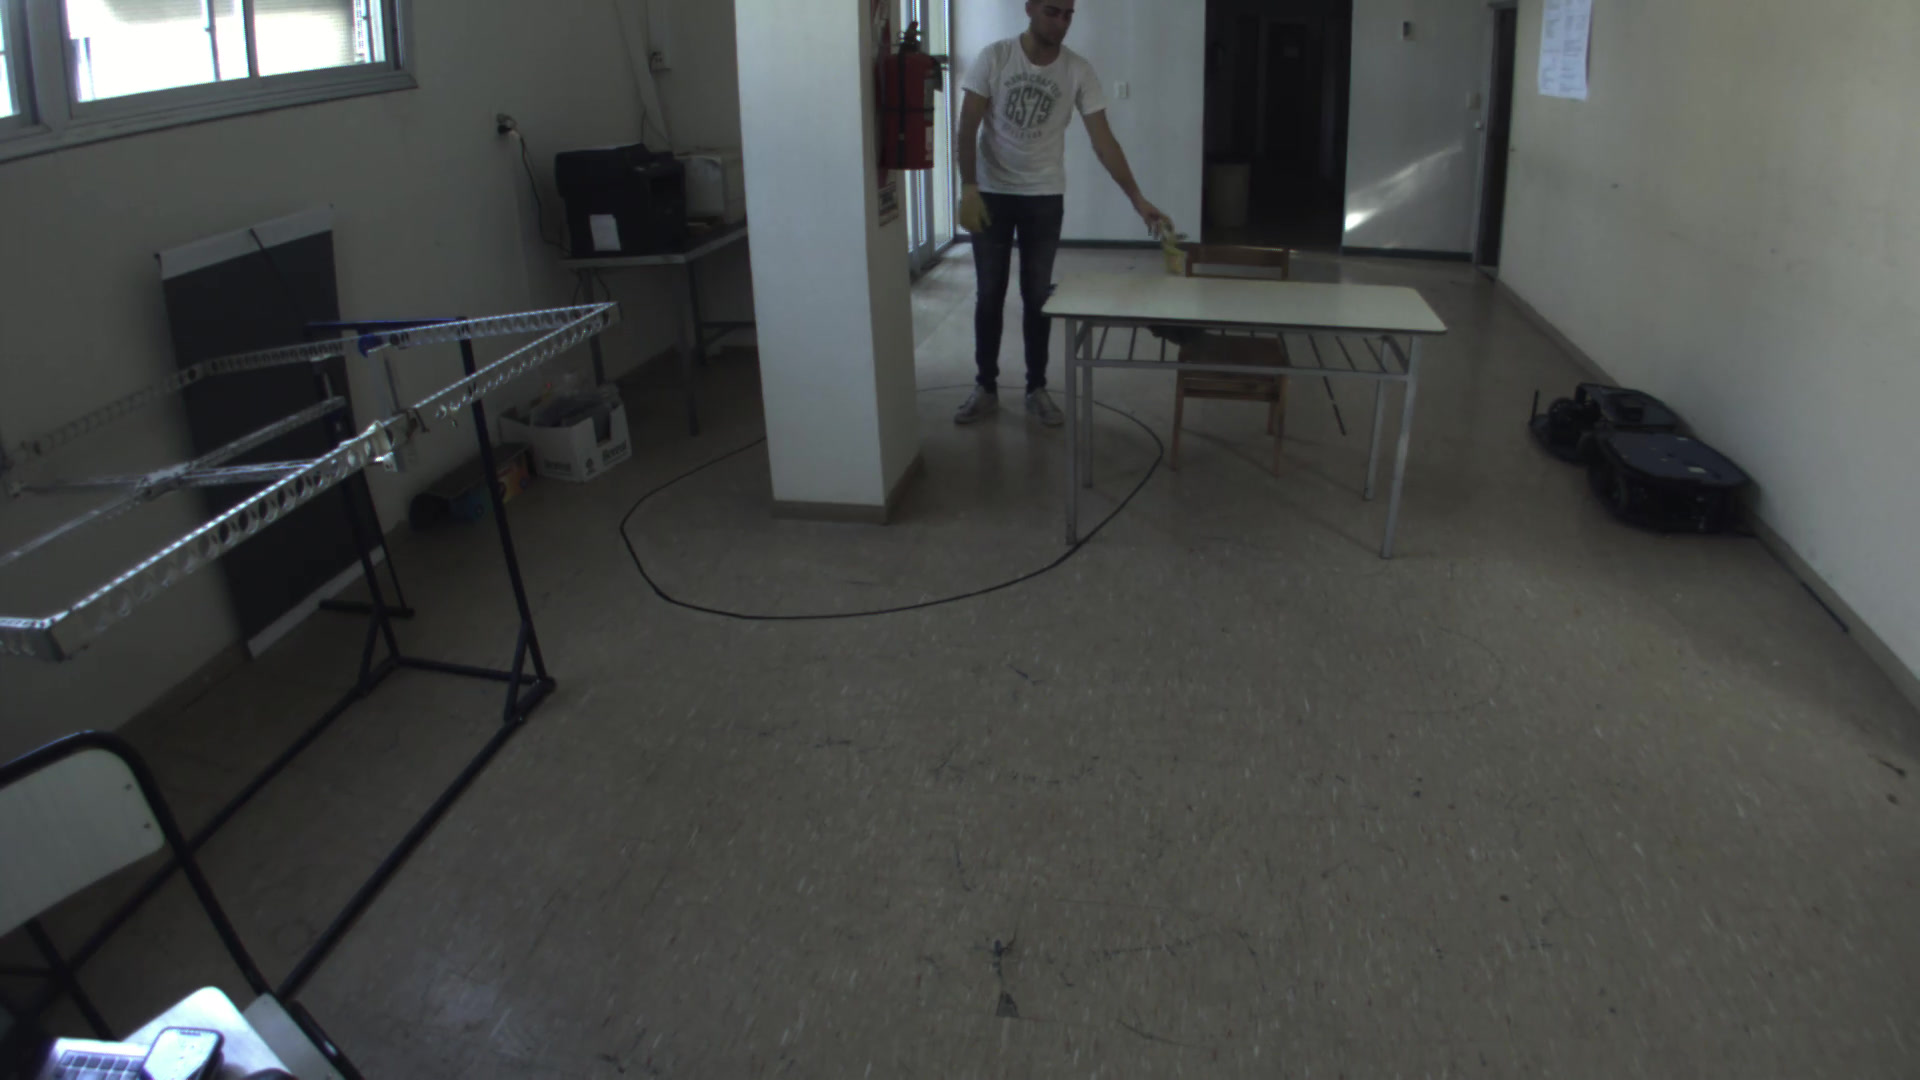hand: (1127, 186, 1184, 244), (953, 173, 994, 237)
